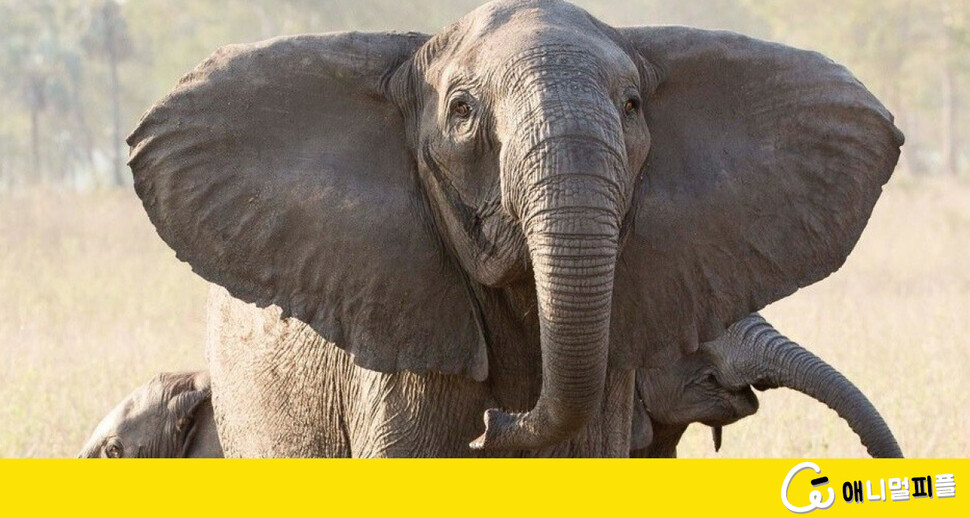Elephant: (117, 1, 920, 453)
